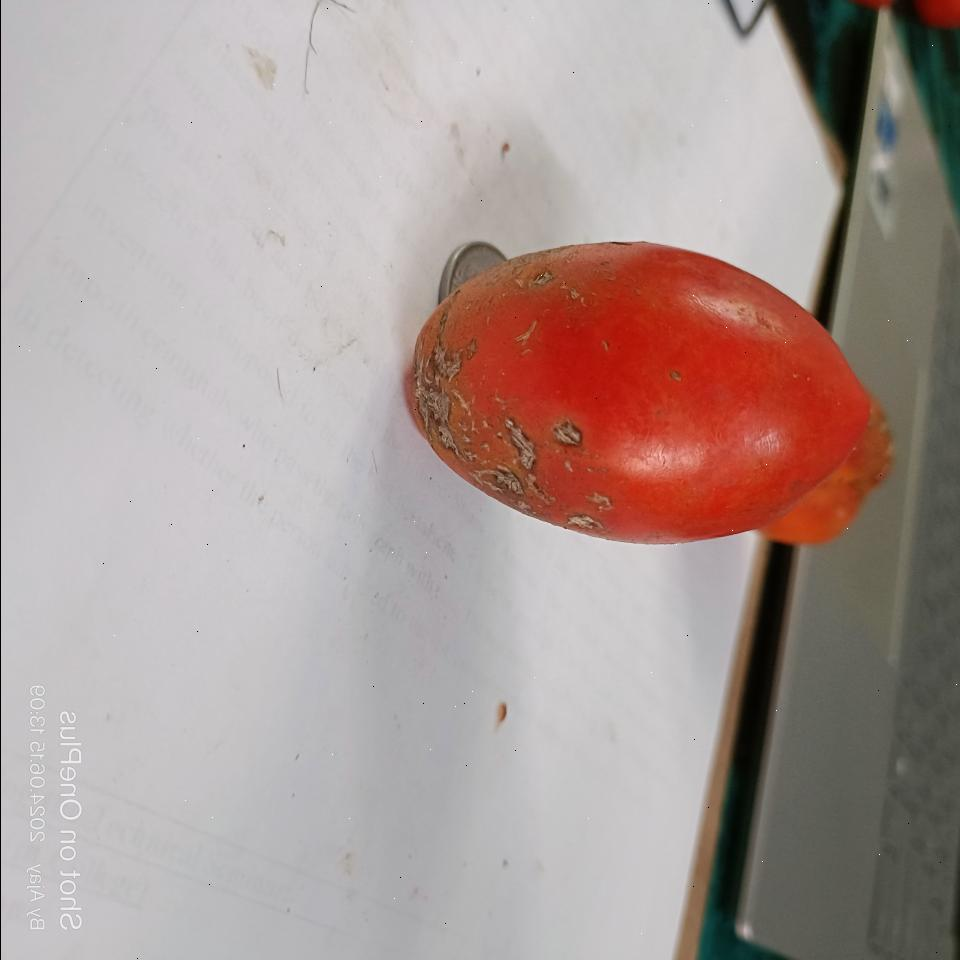Bacterial_Spot: (406, 326, 488, 461), (478, 422, 536, 516), (558, 486, 616, 534), (548, 420, 580, 448)
